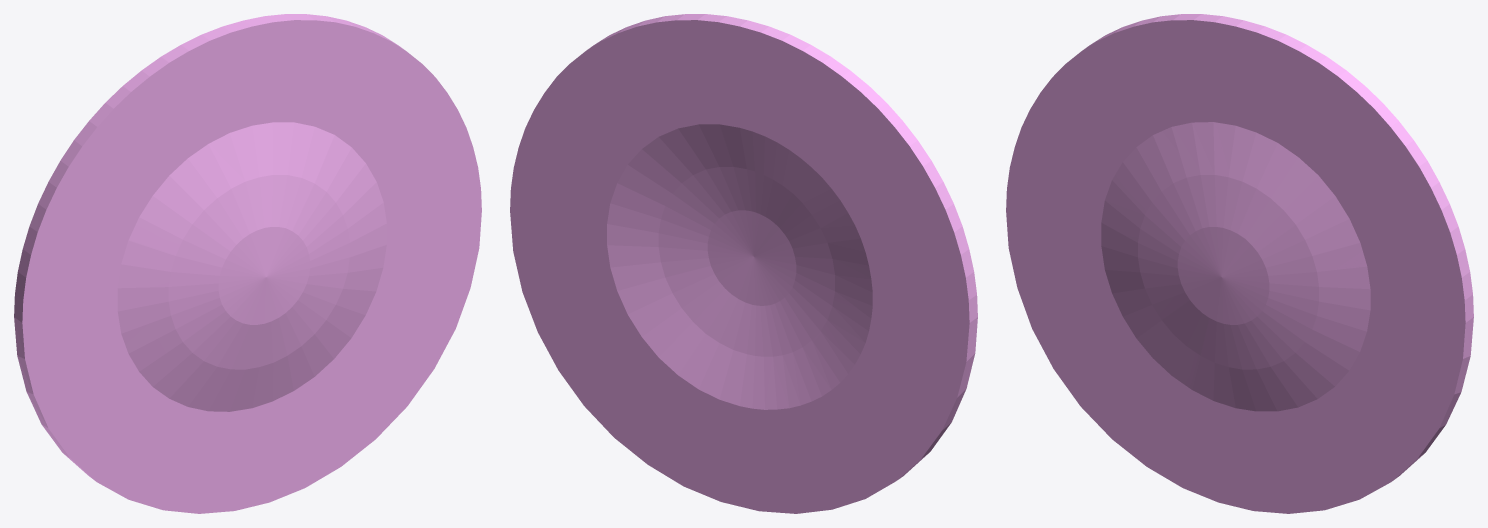
File: d435i_7_from_obj.obj
3 views of the same model, side by side, from view 1: azimuth 30°, elevation 25°; view 2: azimuth 150°, elevation 25°; view 3: azimuth 330°, elevation 25° (orthographic).
Size of the model in its own units: 0.00159 by 0.00158 by 0.000134.
